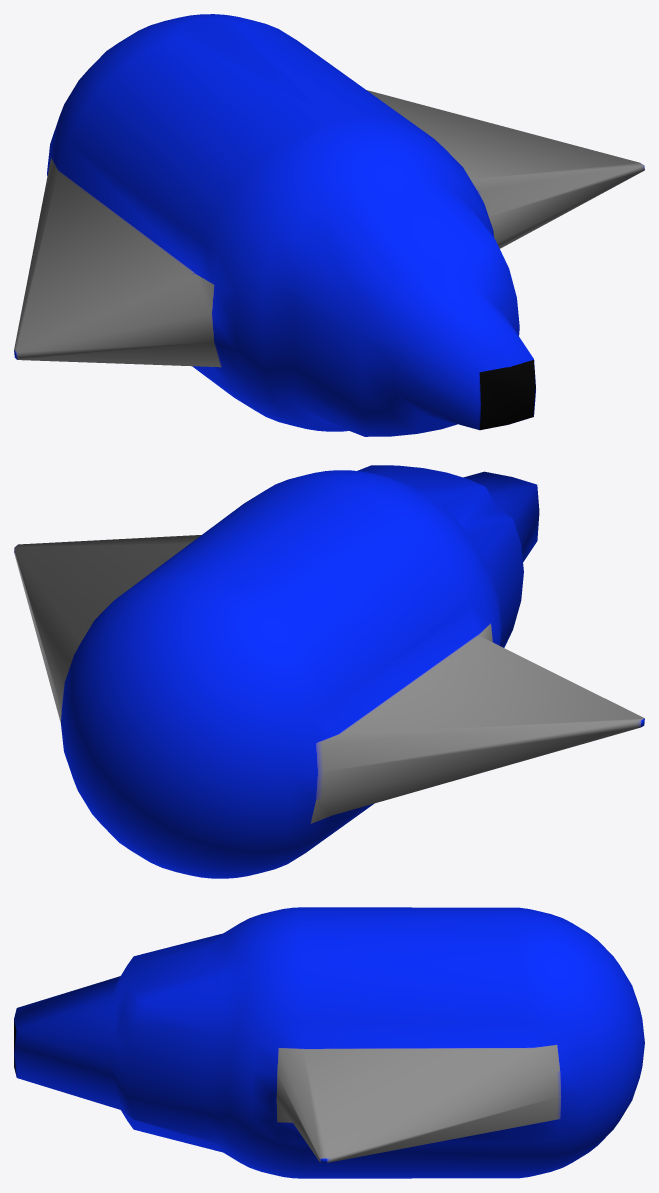
Rendered from PlayerMissile.obj.
3 views of the same model, one above another, from view 1: azimuth 30°, elevation 25°; view 2: azimuth 150°, elevation 25°; view 3: azimuth 270°, elevation 25° (orthographic). The views are drawn at different scales.
Visible parts, largest first — view 1: 球; view 2: 球; view 3: 球.
Part boxes in pixels (left/top/right/bottom): 球: left=14, top=14, right=644, bottom=436; 球: left=14, top=465, right=644, bottom=878; 球: left=14, top=907, right=644, bottom=1178.
Bounding box in the file's own units: 1.14 × 0.5092 × 1.18.
1 material, 1 textured.
